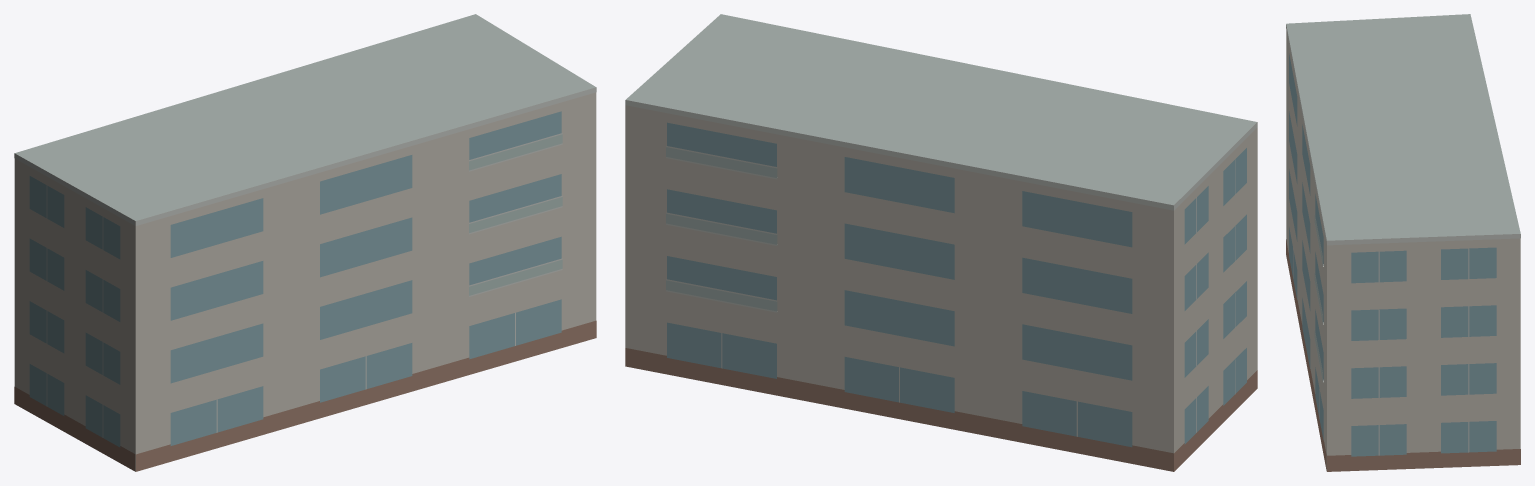
Rendered from survey-upis-32633379.glb.
3 renders of one model, left to right at view 1: azimuth 30°, elevation 25°; view 2: azimuth 150°, elevation 25°; view 3: azimuth 270°, elevation 25°, orthographic. The views are drawn at different scales.
Parts seen in each view (by area): view 1: survey-upis-32633379.tmp; view 2: survey-upis-32633379.tmp; view 3: survey-upis-32633379.tmp.
Part boxes in pixels (x1,y1,x2,y2): survey-upis-32633379.tmp: [14, 14, 596, 471]; survey-upis-32633379.tmp: [625, 14, 1257, 471]; survey-upis-32633379.tmp: [1286, 14, 1520, 471].
Bounding box in the file's own units: 25.68 × 12.2 × 11.24.
